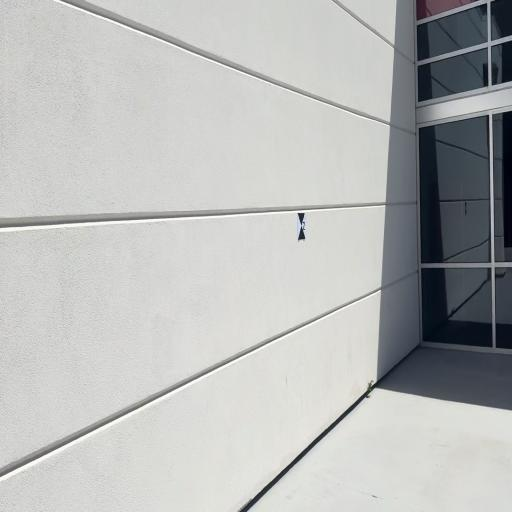target7: (298, 212, 306, 240)
